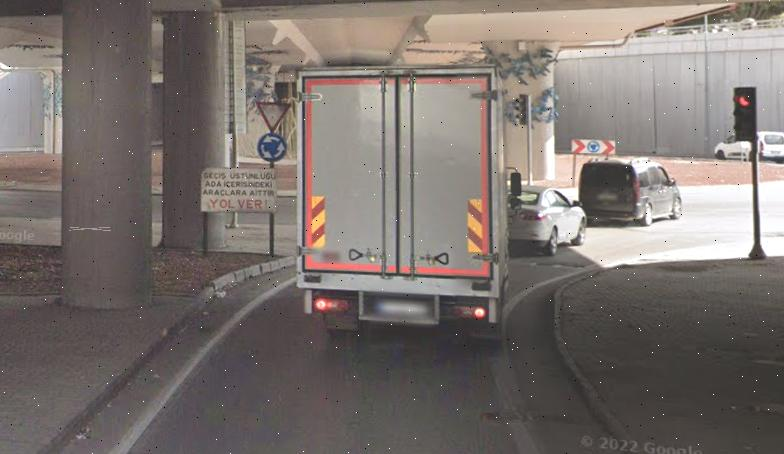crossroads: (260, 134, 286, 162)
redlight: (735, 86, 758, 139)
